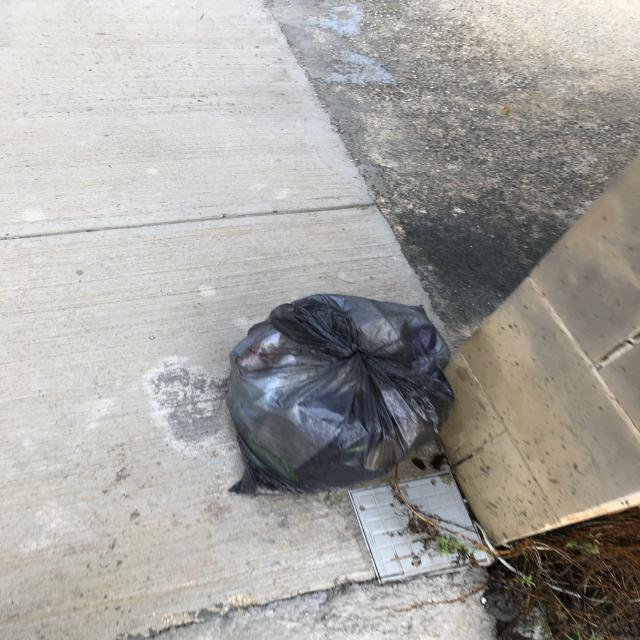Mixed Waste -Black Bag-: (228, 294, 454, 497)
